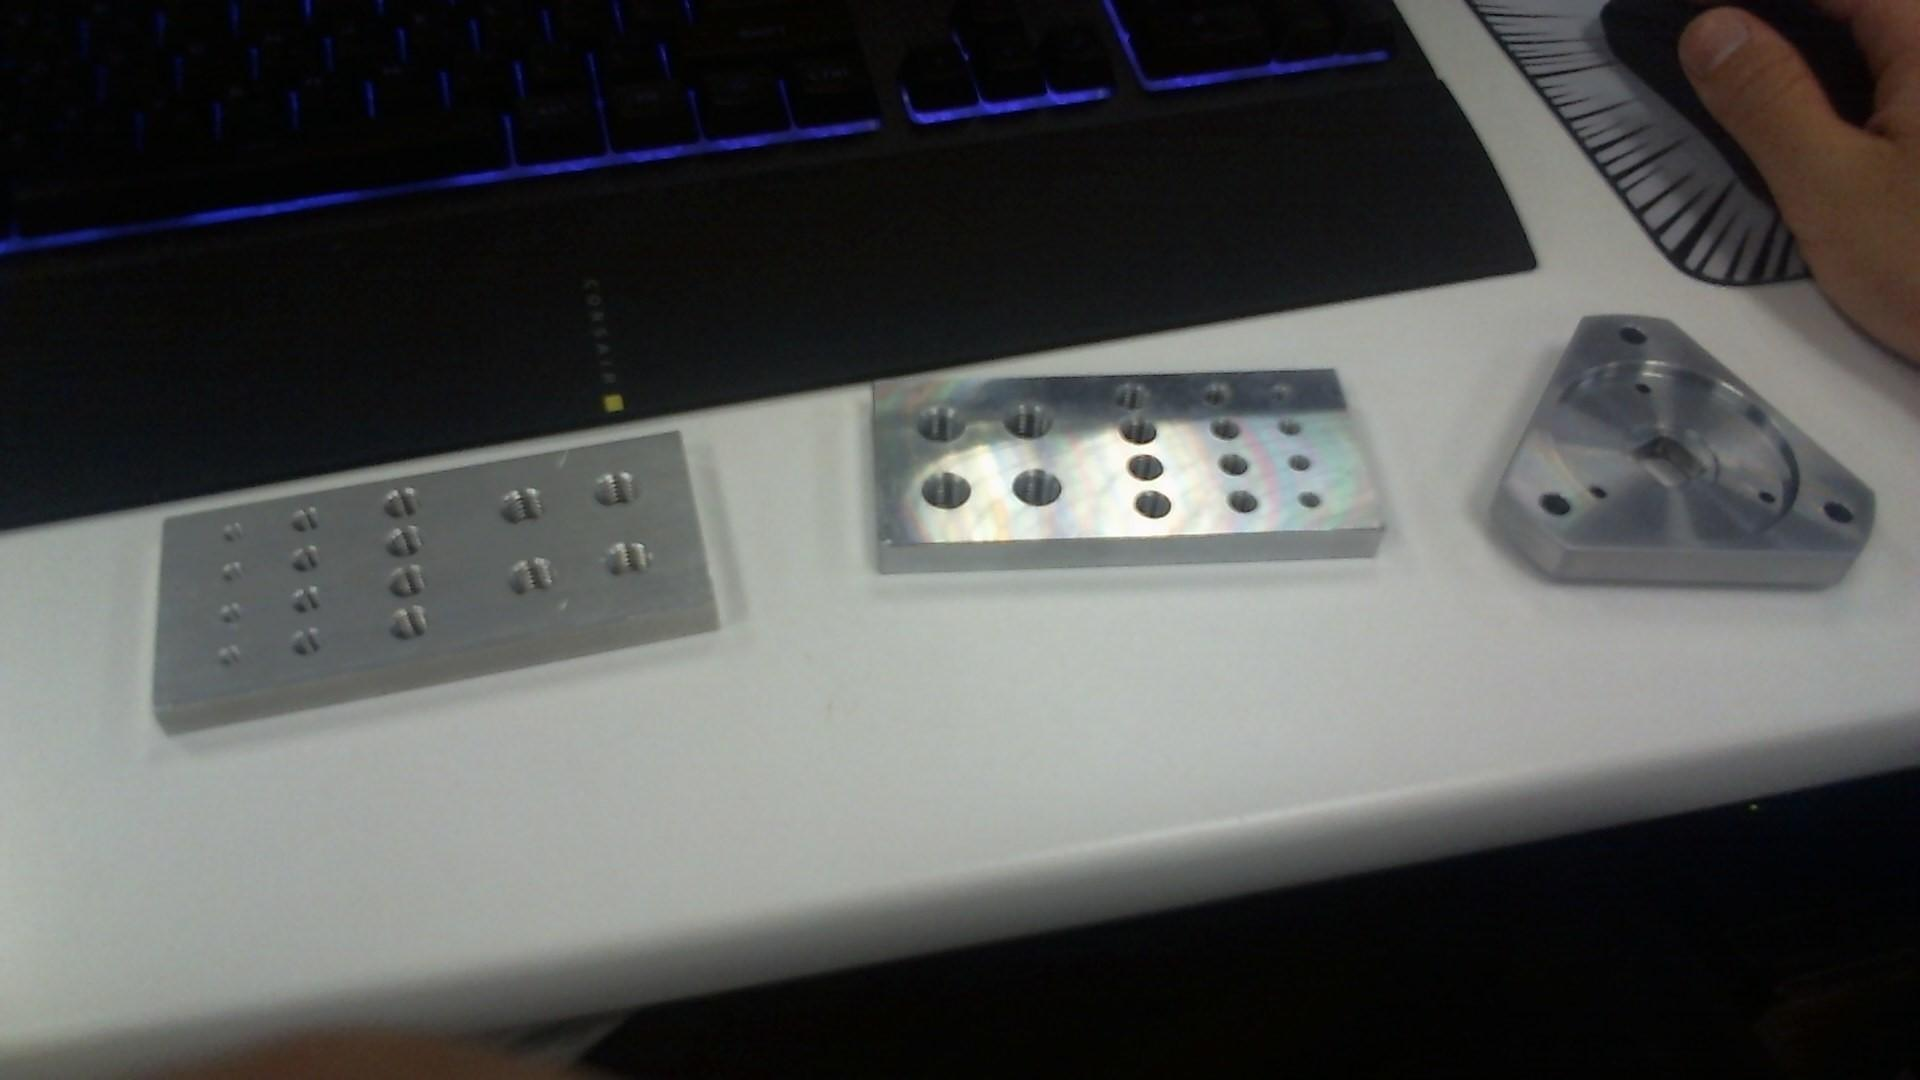hole: (600, 530, 654, 591), (501, 480, 549, 538), (1009, 463, 1065, 510), (910, 398, 965, 444), (1000, 396, 1052, 442), (384, 600, 438, 644), (915, 472, 973, 512), (505, 558, 558, 599), (592, 467, 637, 512), (381, 524, 427, 562), (385, 567, 430, 604), (286, 629, 331, 662), (377, 483, 419, 517), (1129, 492, 1174, 524), (285, 545, 328, 576), (1120, 419, 1164, 450), (286, 582, 327, 615), (282, 505, 328, 534), (1213, 448, 1250, 480), (1225, 489, 1266, 517), (1203, 417, 1244, 443), (1539, 488, 1575, 517), (1116, 377, 1150, 405), (1203, 378, 1233, 409), (1126, 455, 1164, 479), (1266, 380, 1298, 407), (1822, 498, 1851, 525), (1617, 324, 1648, 348), (215, 645, 241, 670), (1284, 450, 1311, 473), (1298, 491, 1325, 513), (218, 522, 244, 543), (1275, 419, 1304, 438), (218, 559, 240, 583), (219, 599, 240, 622), (1633, 380, 1655, 397), (1756, 491, 1780, 506), (1589, 484, 1610, 501)
